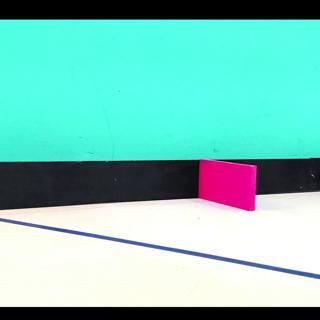xparking: (201, 167, 255, 212)
